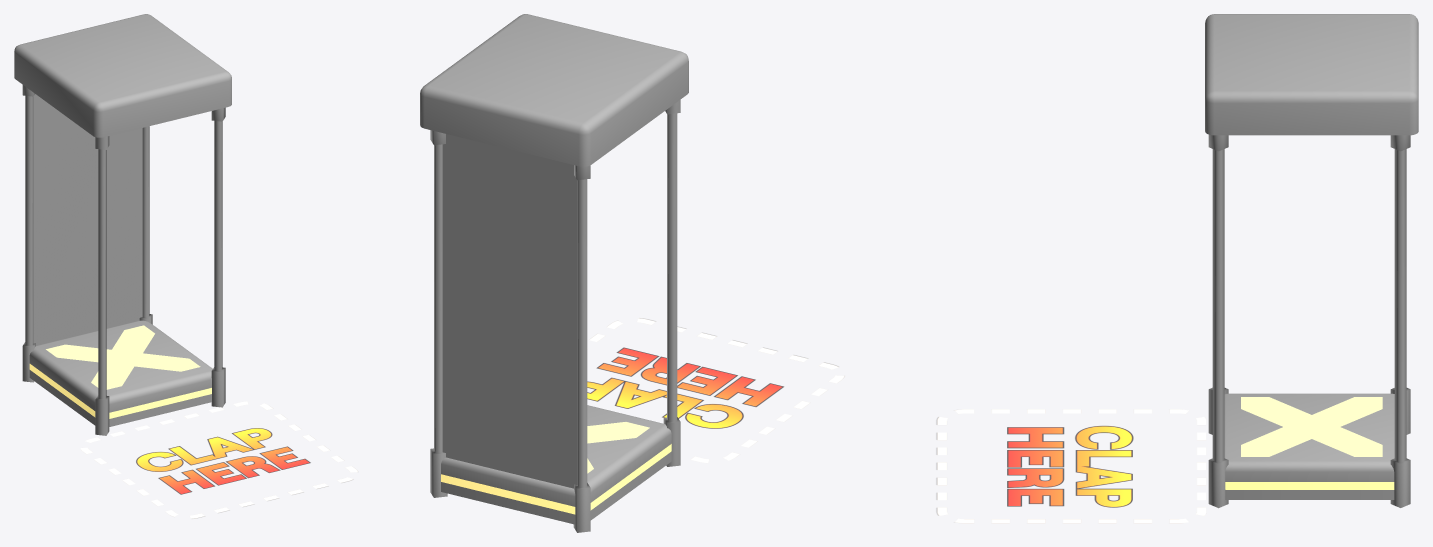
File: GenericDispenser.glb
3 views of the same model, side by side, from view 1: azimuth 30°, elevation 25°; view 2: azimuth 150°, elevation 25°; view 3: azimuth 270°, elevation 25° (orthographic). The views are drawn at different scales.
Parts seen in each view (by area): view 1: dispenser, Plane.019, Plane.018; view 2: dispenser, Plane.019, Plane.018; view 3: dispenser, Plane.018.
Boxes of the visible parts, x1,y1,x2,y2 form: dispenser: (14, 14, 231, 435); Plane.019: (33, 94, 142, 345); Plane.018: (80, 401, 357, 518); dispenser: (420, 14, 688, 532); Plane.019: (442, 134, 577, 488); Plane.018: (587, 318, 844, 462); dispenser: (1205, 14, 1418, 508); Plane.018: (937, 409, 1206, 522).
Size of what is drawn, in the model's own units: 1.87 by 2.72 by 3.
3 materials, 1 textured.
